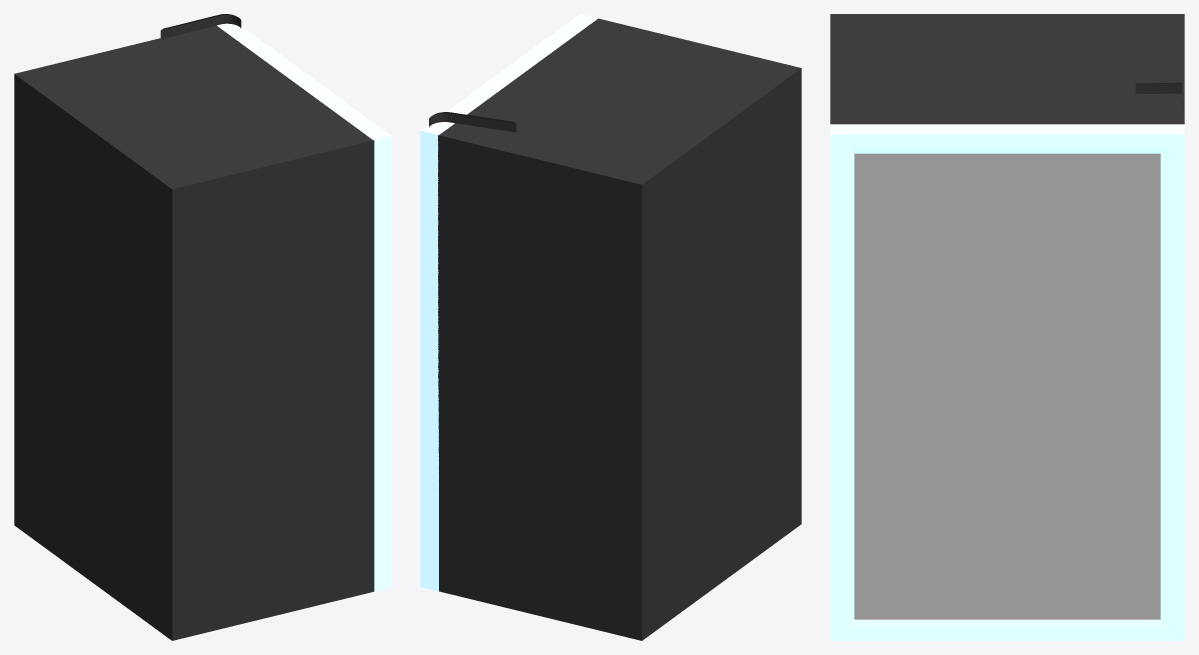
Rendered from SodaFridge.fbx.
3 views of the same model, side by side, from view 1: azimuth 30°, elevation 25°; view 2: azimuth 150°, elevation 25°; view 3: azimuth 270°, elevation 25° (orthographic). The views are drawn at different scales.
Parts seen in each view (by area): view 1: Fridge, door, arm; view 2: Fridge, door, arm; view 3: door, Fridge, arm.
Part boxes in pixels (<box>): Fridge: <box>14,25,374,640</box>; door: <box>217,23,391,591</box>; arm: <box>160,14,241,38</box>; Fridge: <box>438,18,801,640</box>; door: <box>420,14,597,591</box>; arm: <box>429,112,516,132</box>; door: <box>830,124,1184,640</box>; Fridge: <box>830,14,1184,124</box>; arm: <box>1135,82,1182,108</box>.
Size of the model in its own units: 108 by 218 by 135.
